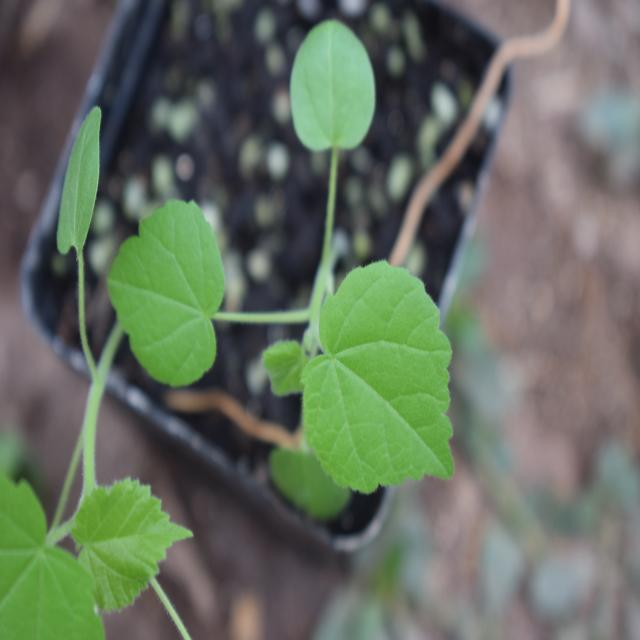abutilon theophrasti: (130, 77, 458, 495)
